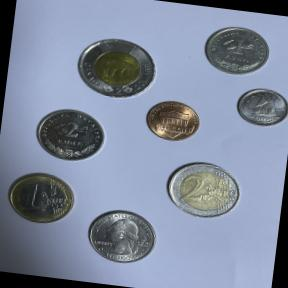coin: (68, 31, 162, 103), (160, 156, 250, 225), (80, 204, 163, 270), (30, 102, 110, 166), (1, 166, 80, 230), (142, 98, 205, 146), (232, 84, 288, 132)
